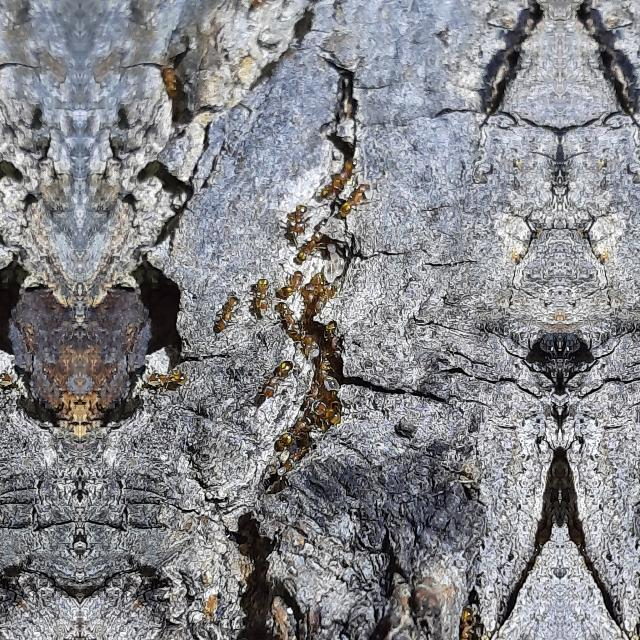Temnothorax: (212, 290, 240, 340), (308, 340, 334, 392), (278, 409, 312, 448), (254, 357, 284, 401), (332, 184, 368, 220), (309, 170, 347, 204), (324, 318, 348, 366), (312, 390, 343, 424), (458, 604, 486, 640), (292, 230, 320, 264), (313, 277, 341, 311), (276, 265, 304, 297), (288, 197, 308, 237), (160, 64, 182, 100), (301, 278, 319, 320), (275, 300, 297, 334), (144, 369, 188, 386), (250, 276, 270, 312), (206, 588, 220, 630), (0, 368, 16, 386), (634, 604, 640, 638)
